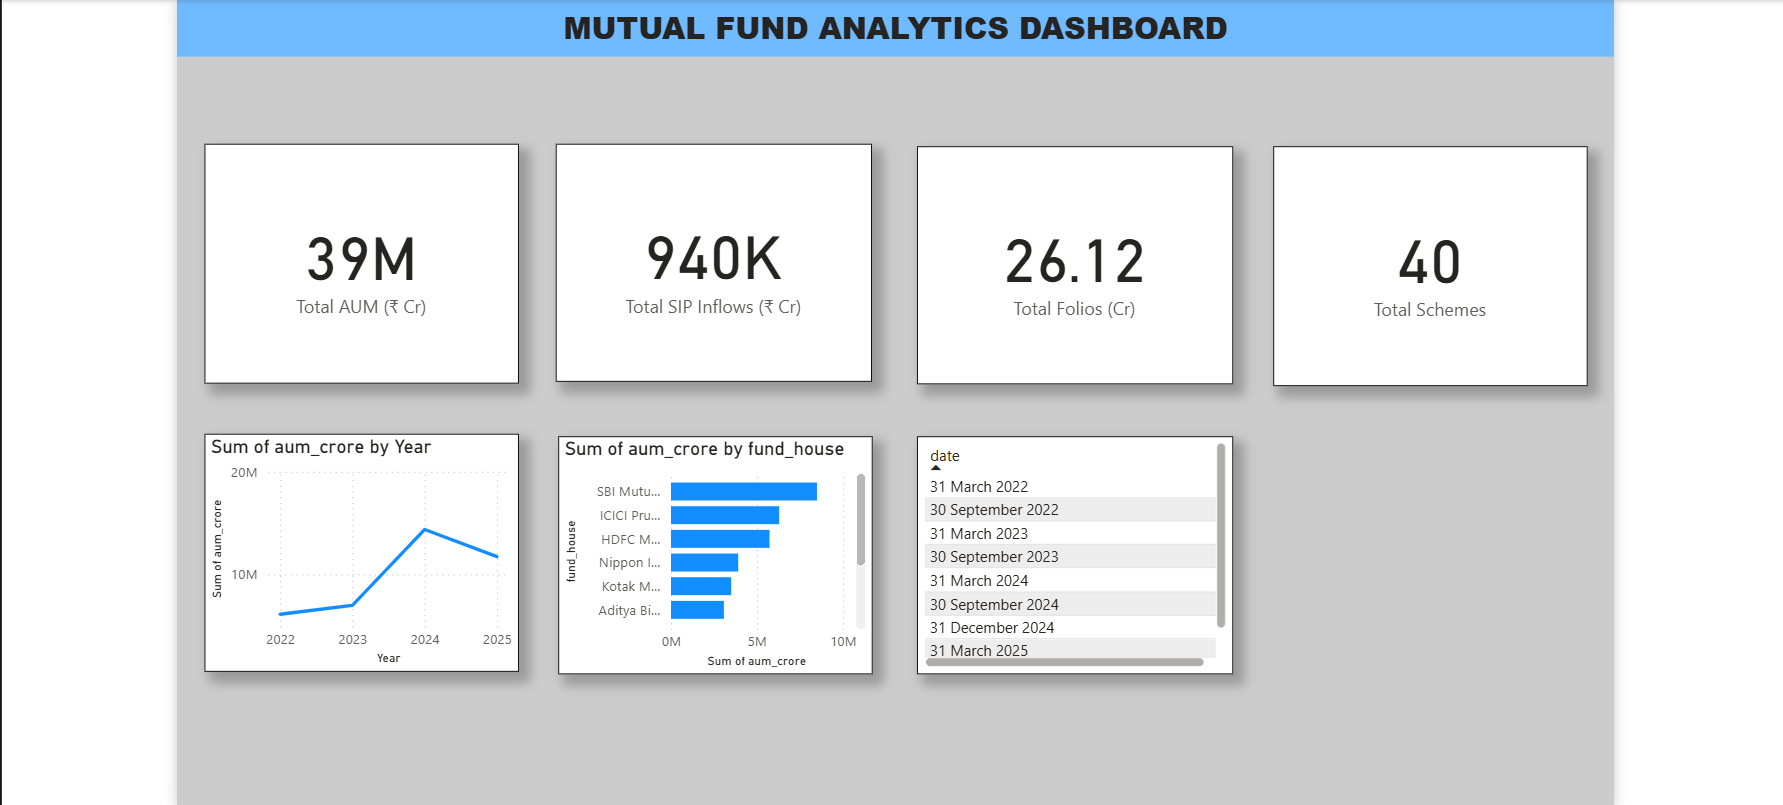

What the dashboard file says about the page in this screenshot:
{"tool":"powerbi","page":{"name":"Industry Overview","canvas":[1280,720],"ordinal":0},"visuals":[{"type":"card","fields":{"Values":["Sum(03_aum_by_fund_house.aum_crore)"]},"box":[24.5,128.4,279.9,213.5],"z":0},{"type":"card","fields":{"Values":["Sum(04_monthly_sip_inflows_clean.sip_inflow_crore)"]},"box":[337.6,128.4,281.3,212.1],"z":1000},{"type":"card","fields":{"Values":["Max(06_industry_folio_count.total_folios_crore)"]},"box":[659.3,129.8,281.3,212.1],"z":2000},{"type":"card","fields":{"Values":["Count(01_fund_master.amfi_code)"]},"box":[976.7,129.8,279.9,213.5],"z":3000},{"type":"lineChart","fields":{"Category":["03_aum_by_fund_house.date.Variation.Date Hierarchy.Year","03_aum_by_fund_house.date.Variation.Date Hierarchy.Quarter","03_aum_by_fund_house.date.Variation.Date Hierarchy.Month","03_aum_by_fund_house.date.Variation.Date Hierarchy.Day"],"Y":["Sum(03_aum_by_fund_house.aum_crore)"]},"box":[24.5,386.7,279.9,212.1],"z":4000},{"type":"barChart","fields":{"Category":["03_aum_by_fund_house.fund_house"],"Y":["Sum(03_aum_by_fund_house.aum_crore)"]},"box":[339,388.1,279.9,212.1],"z":5000},{"type":"textbox","box":[0,0,1279.7,50.5],"z":6000},{"type":"tableEx","fields":{"Values":["03_aum_by_fund_house.date"]},"box":[659.3,388.1,281.3,212.1],"z":7001}]}

Visuals, with their boxes in screenshot pixels (x1, y1, x2, y2):
card - Sum(03_aum_by_fund_house.aum_crore): locate(213, 141, 521, 376)
card - Sum(04_monthly_sip_inflows_clean.sip_inflow_crore): locate(557, 141, 867, 375)
card - Max(06_industry_folio_count.total_folios_crore): locate(911, 143, 1221, 376)
card - Count(01_fund_master.amfi_code): locate(1260, 143, 1568, 378)
lineChart - 03_aum_by_fund_house.date.Variation.Date Hierarchy.Year x 03_aum_by_fund_house.date.Variation.Date Hierarchy.Quarter: locate(213, 425, 521, 659)
barChart - 03_aum_by_fund_house.fund_house x Sum(03_aum_by_fund_house.aum_crore): locate(559, 427, 867, 660)
textbox: locate(186, 0, 1594, 56)
tableEx - 03_aum_by_fund_house.date: locate(911, 427, 1221, 660)
